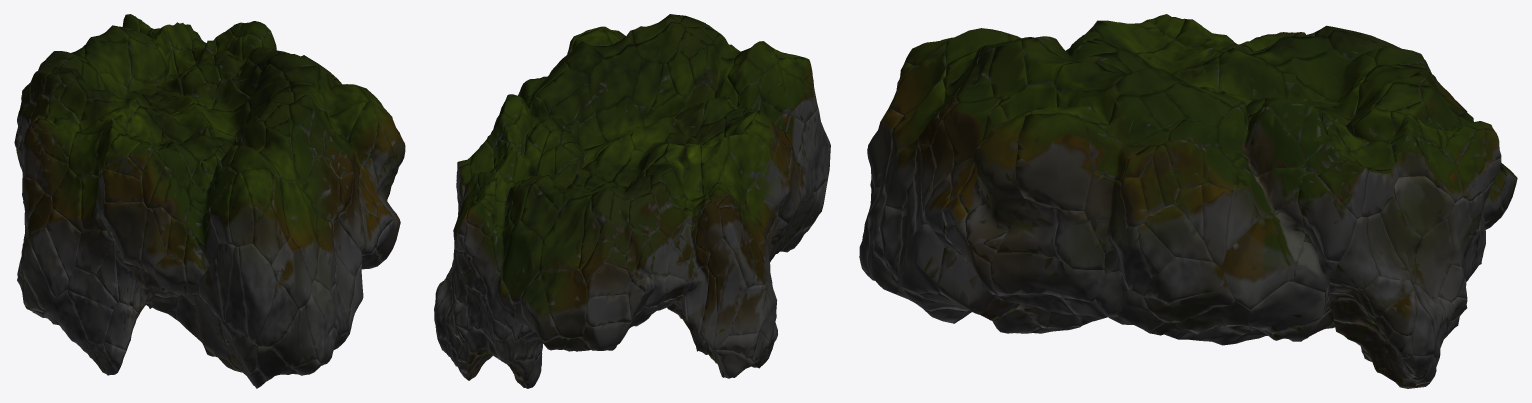
Rendered from flat_island1v2.fbx.
The picture shows the model from 3 angles, left to right: view 1: azimuth 30°, elevation 25°; view 2: azimuth 150°, elevation 25°; view 3: azimuth 270°, elevation 25°; orthographic projection. The views are drawn at different scales.
Visible parts, largest first — view 1: rock_cell.282, rock_cell.058, rock_cell.054, rock_cell.347, rock_cell.105, rock_cell.324, rock_cell.292, rock_cell.330, rock_cell.184, rock_cell.408, rock_cell.060, rock_cell.285 (+116 smaller); view 2: rock_cell.179, rock_cell.311, rock_cell.252, rock_cell.035, rock_cell.063, rock_cell.056, rock_cell.044, rock_cell.259, rock_cell.087, rock_cell.304, rock_cell.143, rock_cell.180 (+106 smaller); view 3: rock_cell.216, rock_cell.319, rock_cell.280, rock_cell.018, rock_cell.380, rock_cell.401, rock_cell.348, rock_cell.329, rock_cell.345, rock_cell.110, rock_cell.016, rock_cell.193 (+97 smaller).
Boxes of the visible parts, box(x1,y1,x2,y2) form: rock_cell.282: box(238, 243, 276, 343); rock_cell.058: box(281, 179, 319, 282); rock_cell.054: box(102, 202, 147, 268); rock_cell.347: box(271, 237, 312, 308); rock_cell.105: box(304, 157, 340, 222); rock_cell.324: box(84, 39, 131, 86); rock_cell.292: box(228, 172, 254, 246); rock_cell.330: box(28, 227, 68, 297); rock_cell.184: box(255, 280, 297, 346); rock_cell.408: box(144, 103, 211, 142); rock_cell.060: box(46, 208, 80, 278); rock_cell.285: box(67, 290, 113, 344); rock_cell.179: box(540, 268, 587, 338); rock_cell.311: box(539, 194, 592, 271); rock_cell.252: box(588, 44, 641, 111); rock_cell.035: box(501, 220, 542, 304); rock_cell.063: box(746, 162, 785, 236); rock_cell.056: box(729, 132, 773, 190); rock_cell.044: box(664, 143, 702, 200); rock_cell.259: box(713, 256, 747, 350); rock_cell.087: box(520, 272, 559, 342); rock_cell.304: box(596, 96, 643, 143); rock_cell.143: box(520, 183, 558, 240); rock_cell.180: box(586, 294, 631, 326); rock_cell.216: box(1015, 113, 1092, 210); rock_cell.319: box(990, 252, 1104, 302); rock_cell.280: box(1221, 217, 1288, 310); rock_cell.018: box(973, 116, 1025, 228); rock_cell.380: box(1297, 170, 1357, 262); rock_cell.401: box(1274, 48, 1376, 102); rock_cell.348: box(1247, 281, 1325, 333); rock_cell.329: box(1231, 106, 1305, 176); rock_cell.345: box(1218, 48, 1285, 101); rock_cell.110: box(1143, 256, 1224, 304); rock_cell.016: box(996, 198, 1058, 259); rock_cell.193: box(1394, 176, 1454, 237).
Size of the model in its own units: 2654 by 2426 by 4164.
1 material, 1 textured.
